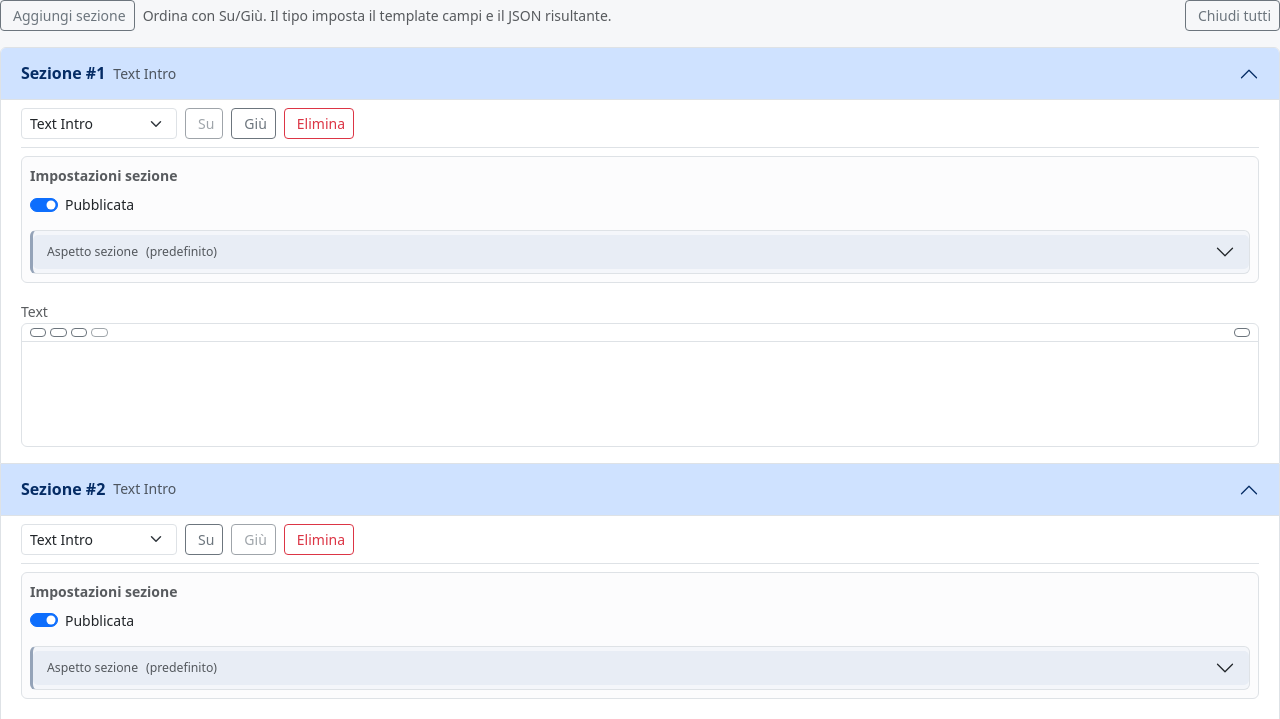
it: SectionsEditor › dopo Chiudi tutti, nuova sezione resta l’unica aperta
Step 1. Click the button "Chiudi tutti" → x=1232, y=16, box [1185,0,1279,31]
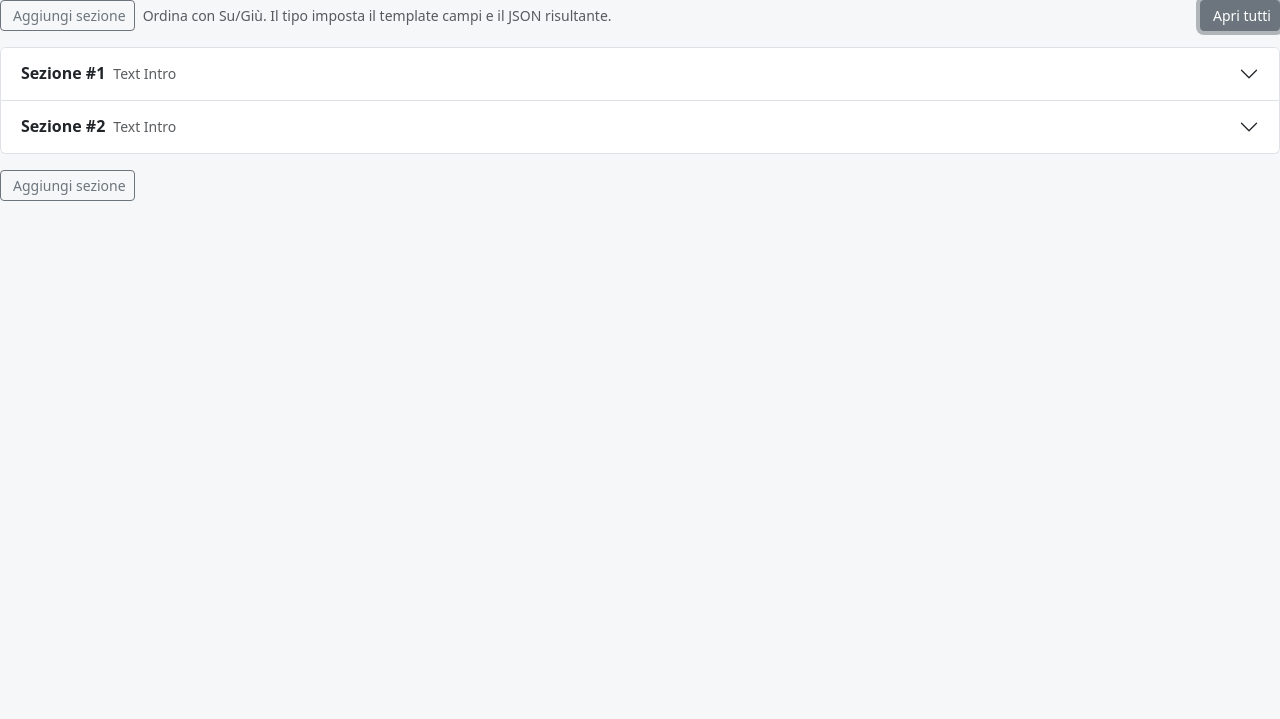
Expected: the button "Sezione #1 Text Intro" is collapsed, [1,48,1279,100]
Expected: the button "Sezione #2 Text Intro" is collapsed, [1,101,1279,153]
Step 2. Click the 1st button "Aggiungi sezione" → x=67, y=16, box [0,0,135,31]
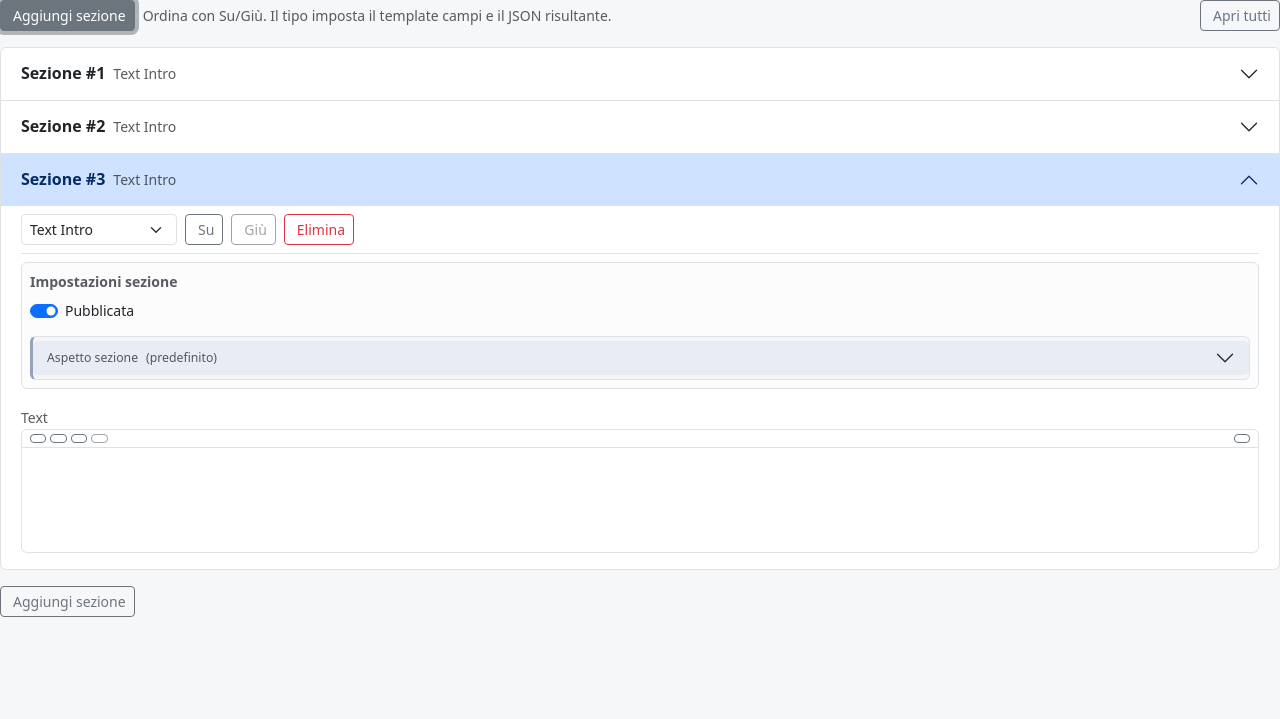
Expected: the button "Sezione #1 Text Intro" is collapsed, [1,48,1279,100]
Expected: the button "Sezione #2 Text Intro" is collapsed, [1,101,1279,153]
Expected: the number of buttons "Sezione #1 Text Intro" is 3, [1,48,1279,100]; [1,101,1279,153]; [1,154,1279,206]
